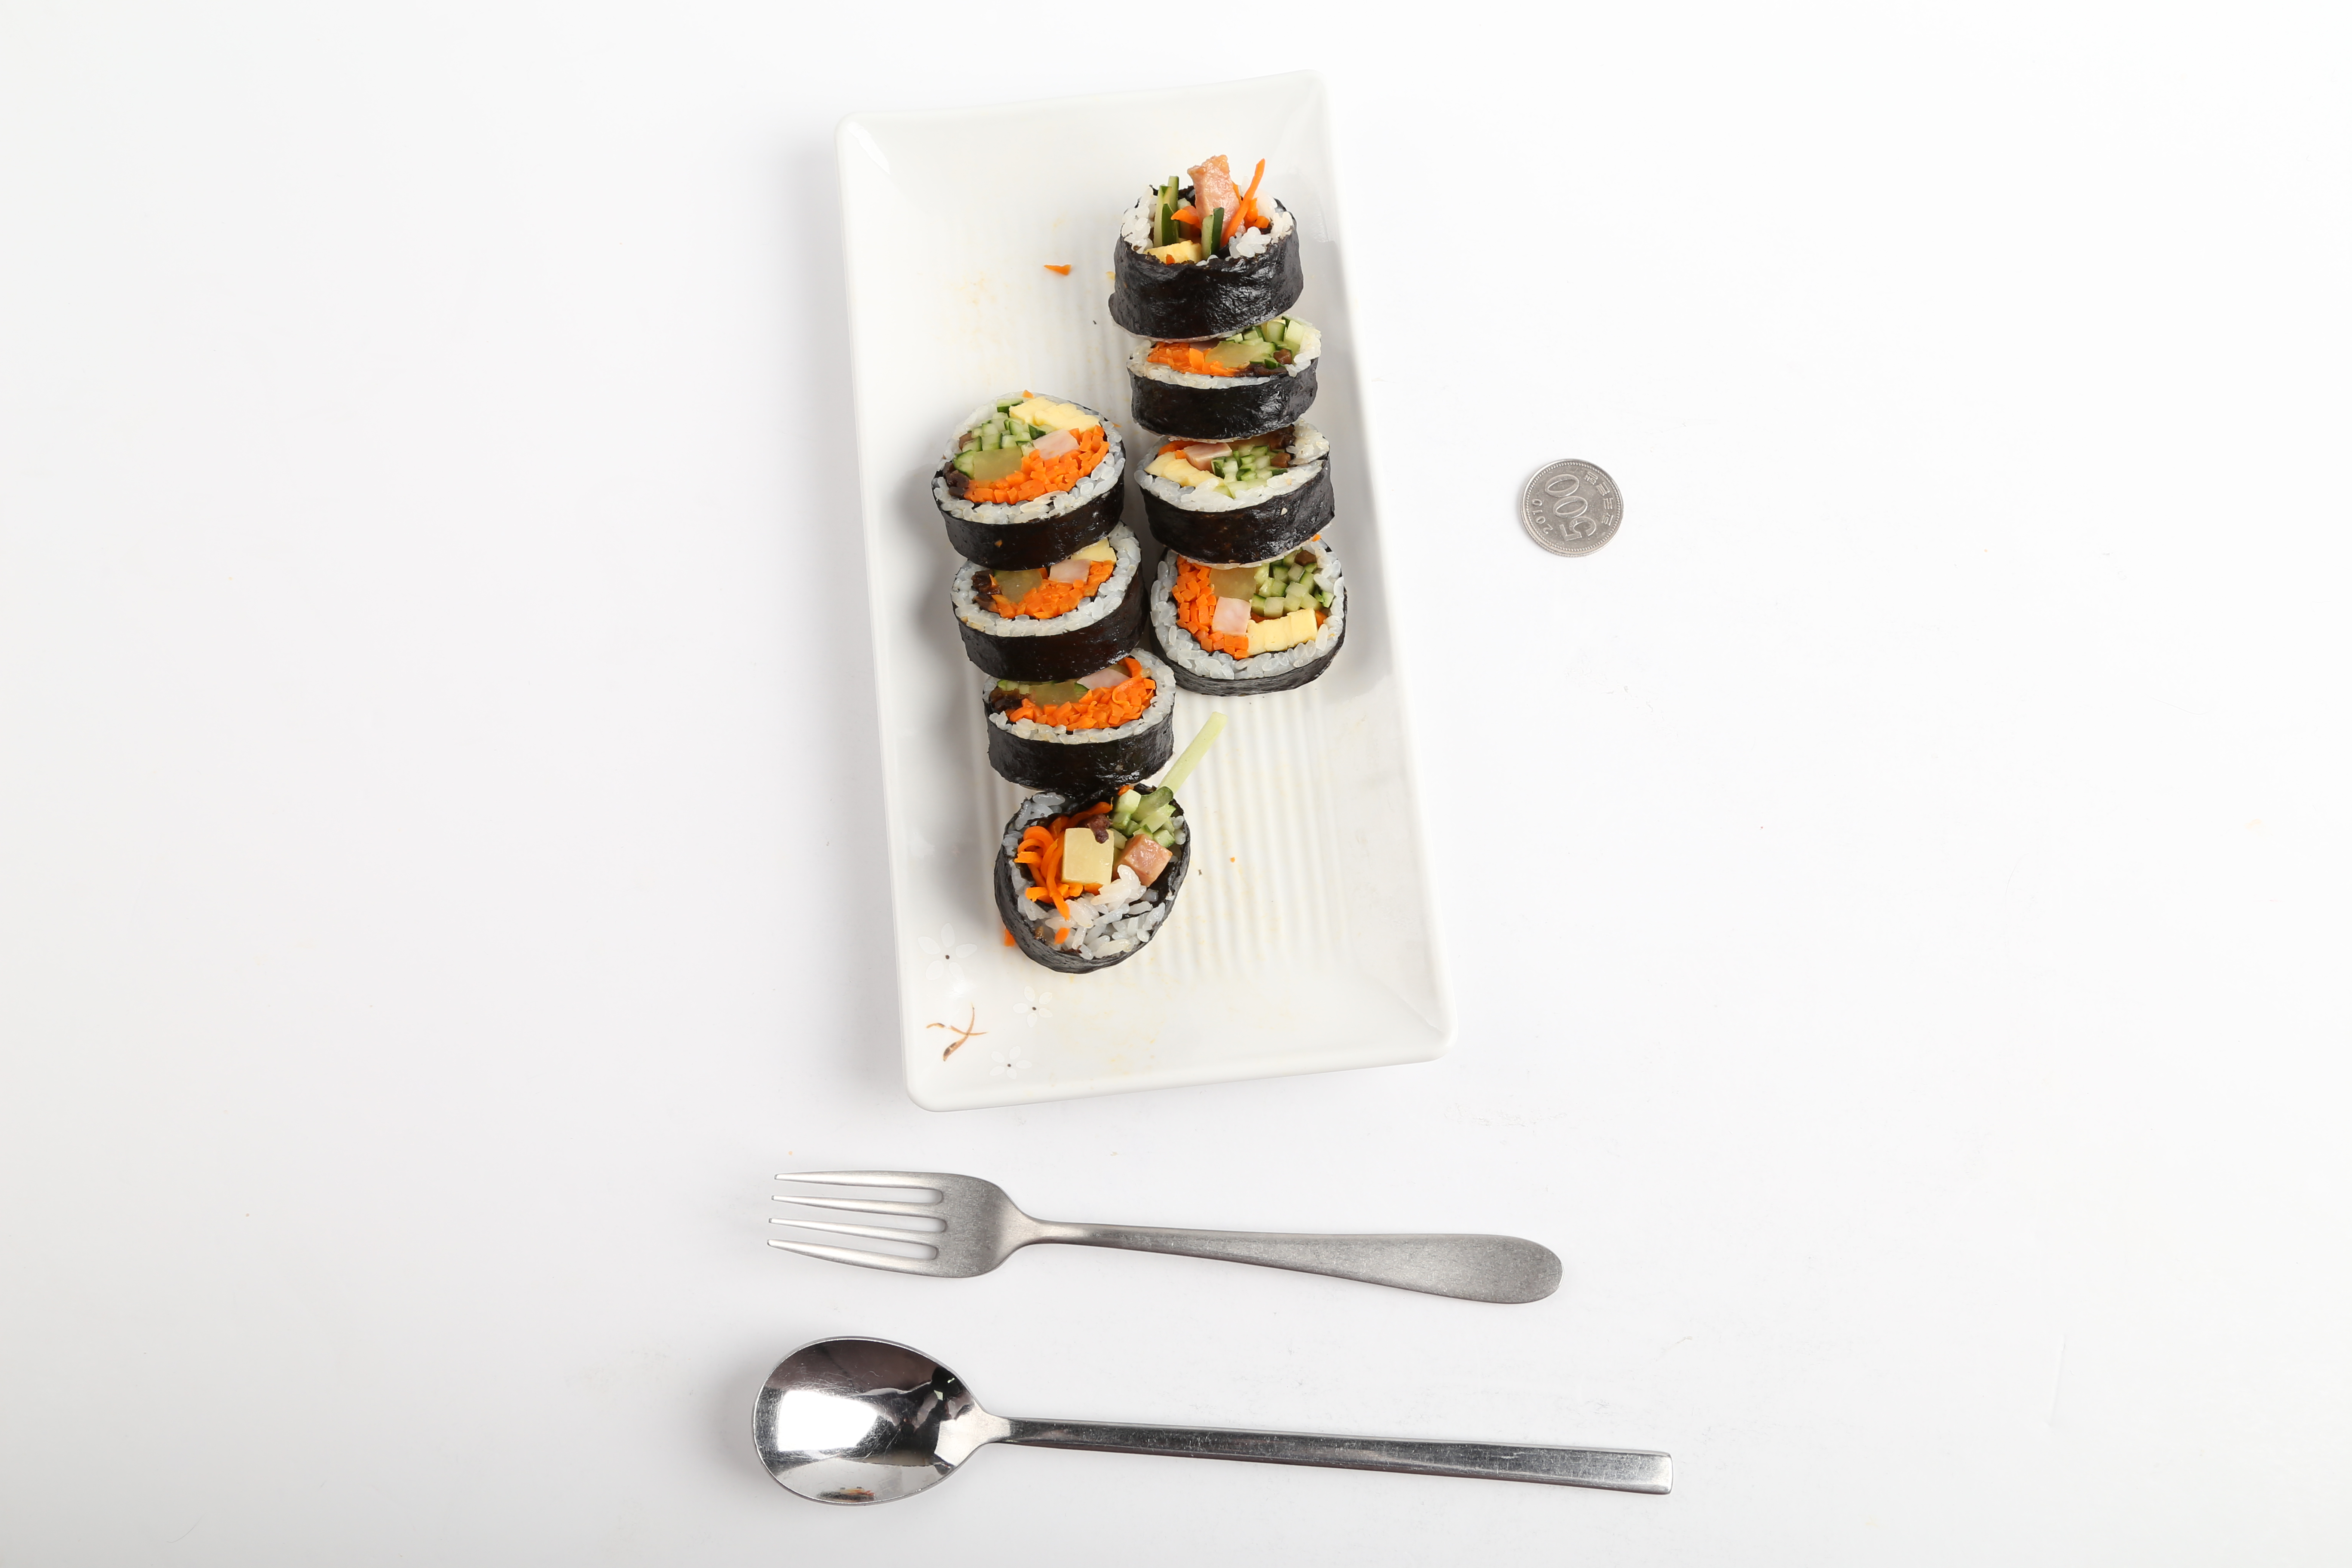dish: (833, 68, 1456, 1118)
ref_coin: (1510, 450, 1624, 562)
ref_fork: (761, 1169, 1094, 1284)
ref_spoon: (747, 1330, 1053, 1512)
김밥: (927, 171, 1347, 976)
